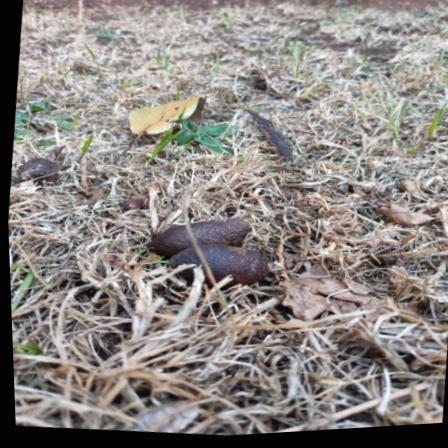dog-poop: (134, 201, 278, 302), (7, 145, 63, 195)
